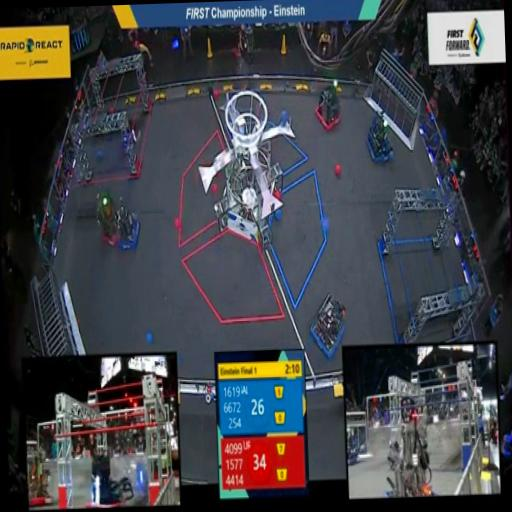robot: (304, 287, 352, 361), (356, 104, 398, 168), (309, 78, 346, 139), (91, 181, 120, 251), (114, 198, 145, 250)
